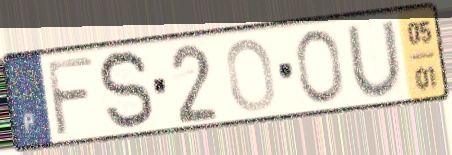2: (169, 38, 222, 126)
F: (43, 54, 97, 139)
O: (223, 35, 278, 114), (293, 27, 347, 106)
S: (96, 47, 157, 134)
U: (342, 16, 406, 99)
